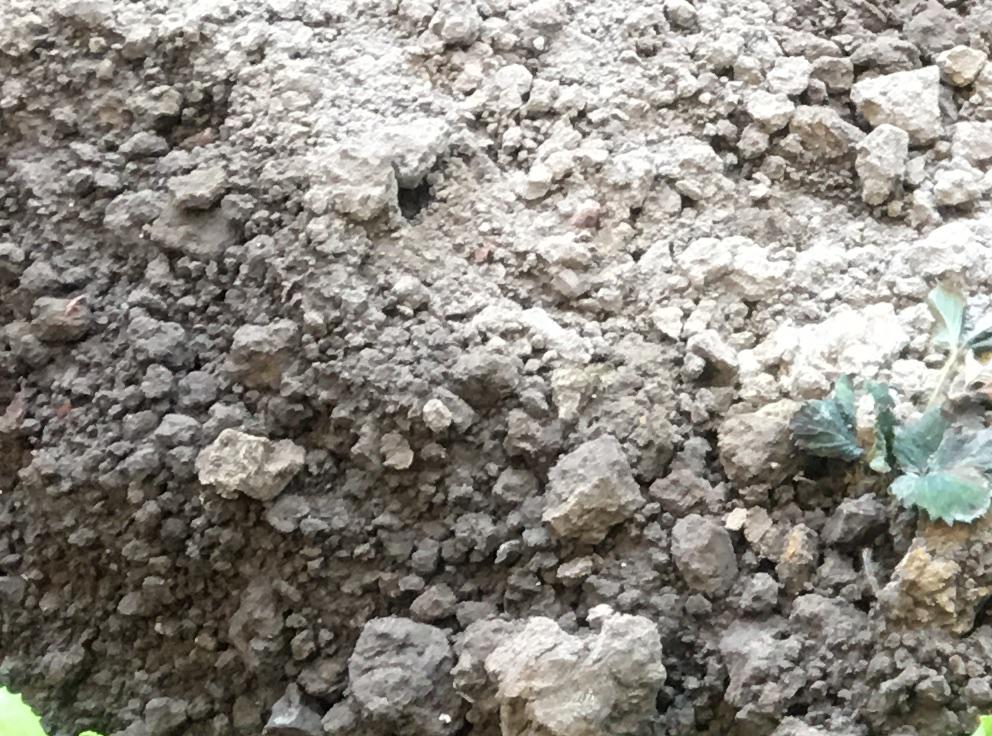block: (474, 618, 665, 735), (535, 433, 645, 553), (337, 614, 451, 722), (190, 424, 302, 505), (848, 66, 944, 147)
